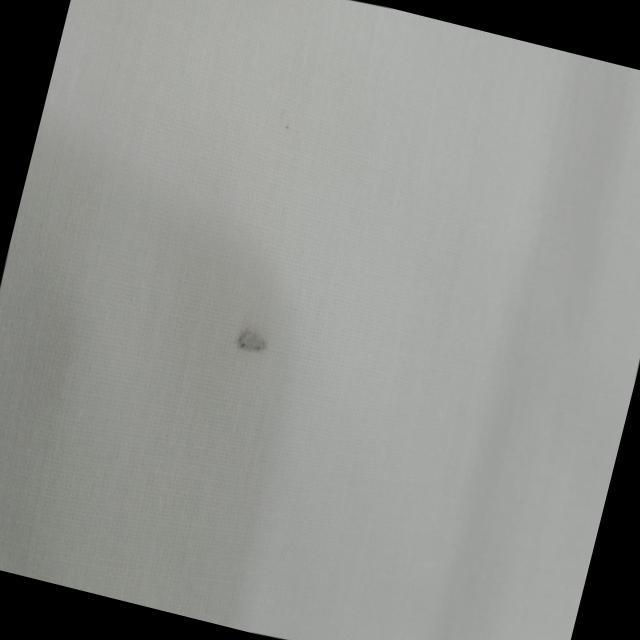stain: (216, 308, 286, 380)
